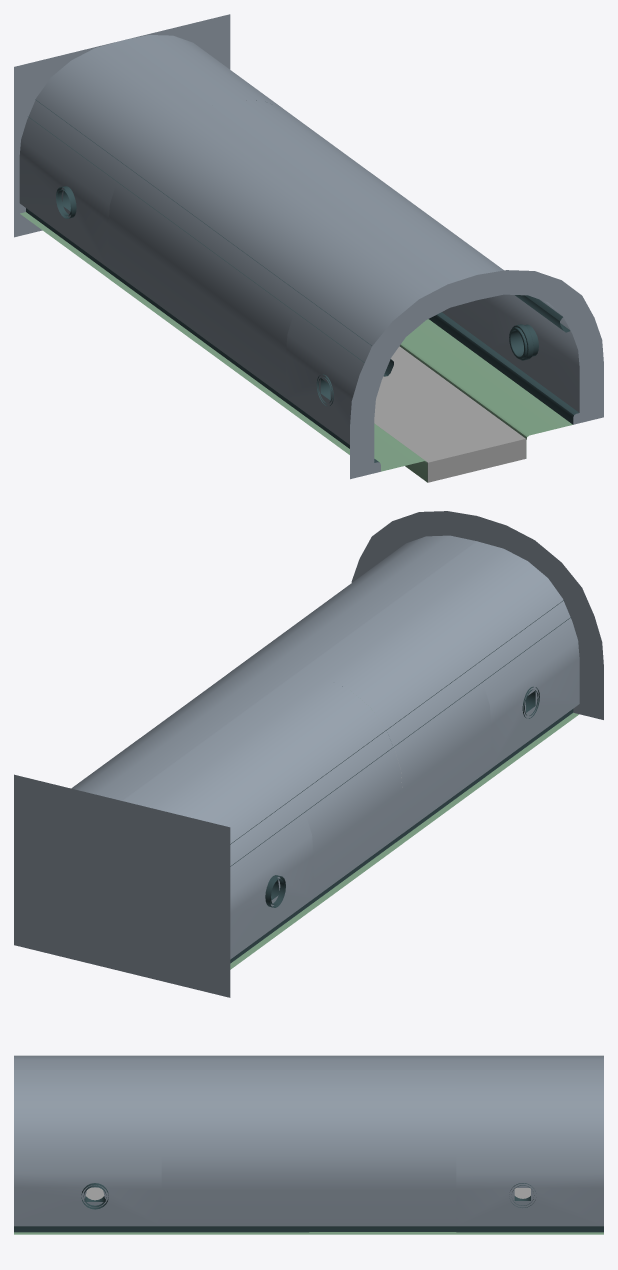
Rendered from Sewer_Scene.fbx.
3 renders of one model, top to bottom at view 1: azimuth 30°, elevation 25°; view 2: azimuth 150°, elevation 25°; view 3: azimuth 270°, elevation 25°, orthographic. The views are drawn at different scales.
Parts seen in each view (by area): view 1: SM_FrontSewerWall_Left, SM_FrontSewerWall_Right1, SM_FrontSewerMiddle3, SM_FrontSewerMiddle5, SM_FrontSewerWall_Right, SM_Water, SM_FrontSewerMiddle1, SM_SewerGround, SM_BackPlane, SM_FrontSewerWall_Left1, SM_FrontSewerMiddle2, SM_SewerGround1 (+2 smaller); view 2: SM_BackPlane, SM_FrontSewerWall_Left, SM_FrontSewerMiddle3, SM_FrontSewerMiddle5, SM_FrontSewerWall_Right1, SM_FrontSewerWall_Right, SM_FrontSewerMiddle1, SM_FrontSewerMiddle2, SM_FrontSewerWall_Left1; view 3: SM_FrontSewerMiddle1, SM_FrontSewerMiddle2, SM_FrontSewerWall_Left1, SM_FrontSewerWall_Right, SM_FrontSewerMiddle5, SM_FrontSewerMiddle3, SM_FrontSewerWall_Right1, SM_FrontSewerWall_Left, SM_SewerGround1, SM_SewerGround2, SM_SewerGround, SM_SewerGround3 (+1 smaller).
Boxes of the visible parts, box(x1,y1,x2,y2) form: SM_FrontSewerWall_Left: box(286, 235, 476, 479); SM_FrontSewerWall_Right1: box(19, 40, 210, 276); SM_FrontSewerMiddle3: box(197, 170, 388, 406); SM_FrontSewerMiddle5: box(108, 105, 299, 341); SM_FrontSewerWall_Right: box(388, 229, 603, 424); SM_Water: box(374, 346, 525, 482); SM_FrontSewerMiddle1: box(300, 164, 490, 359); SM_SewerGround: box(286, 360, 572, 482); SM_BackPlane: box(14, 14, 230, 237); SM_FrontSewerWall_Left1: box(122, 35, 281, 107); SM_FrontSewerMiddle2: box(211, 100, 369, 171); SM_SewerGround1: box(197, 319, 483, 408); SM_BackPlane: box(14, 774, 230, 997); SM_FrontSewerWall_Left: box(389, 516, 603, 776); SM_FrontSewerMiddle3: box(300, 606, 491, 842); SM_FrontSewerMiddle5: box(211, 671, 402, 907); SM_FrontSewerWall_Right1: box(122, 736, 313, 963); SM_FrontSewerWall_Right: box(318, 511, 476, 686); SM_FrontSewerMiddle1: box(229, 600, 387, 672); SM_FrontSewerMiddle2: box(141, 665, 298, 737); SM_FrontSewerWall_Left1: box(71, 730, 210, 800); SM_FrontSewerMiddle1: box(161, 1070, 309, 1232); SM_FrontSewerMiddle2: box(309, 1070, 456, 1231); SM_FrontSewerWall_Left1: box(456, 1070, 603, 1232); SM_FrontSewerWall_Right: box(14, 1070, 161, 1232); SM_FrontSewerMiddle5: box(308, 1055, 456, 1069); SM_FrontSewerMiddle3: box(161, 1055, 308, 1069); SM_FrontSewerWall_Right1: box(456, 1055, 603, 1069); SM_FrontSewerWall_Left: box(14, 1055, 160, 1069); SM_SewerGround1: box(161, 1232, 309, 1234); SM_SewerGround2: box(308, 1232, 456, 1234); SM_SewerGround: box(14, 1232, 161, 1234); SM_SewerGround3: box(456, 1232, 603, 1234).
Size of the model in its own units: 4.95 by 3.65 by 11.99.
